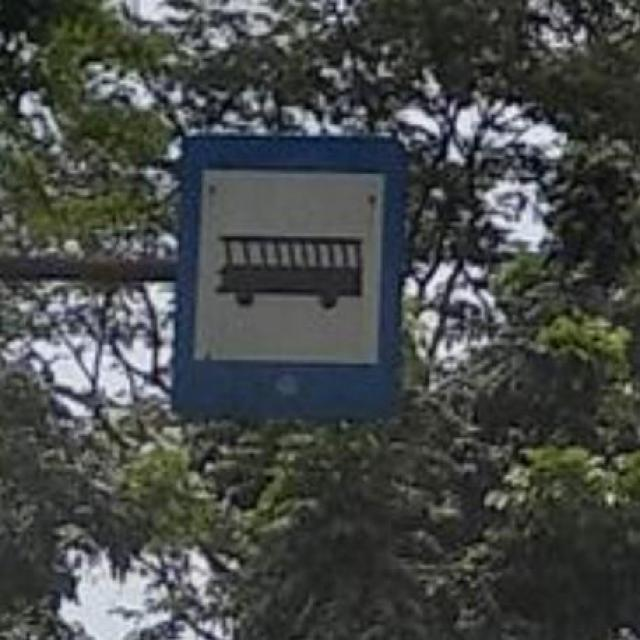traffic sign: (165, 135, 402, 426)
